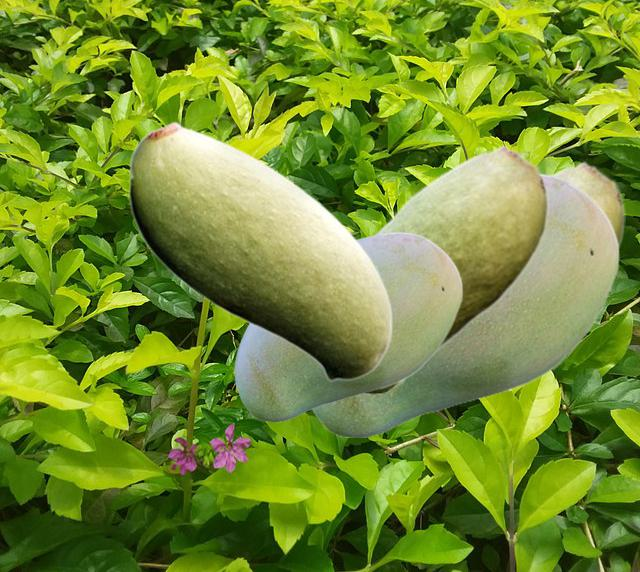green_mango: (310, 173, 619, 436), (128, 120, 392, 381), (366, 144, 548, 393), (234, 232, 462, 420), (548, 161, 624, 250)
